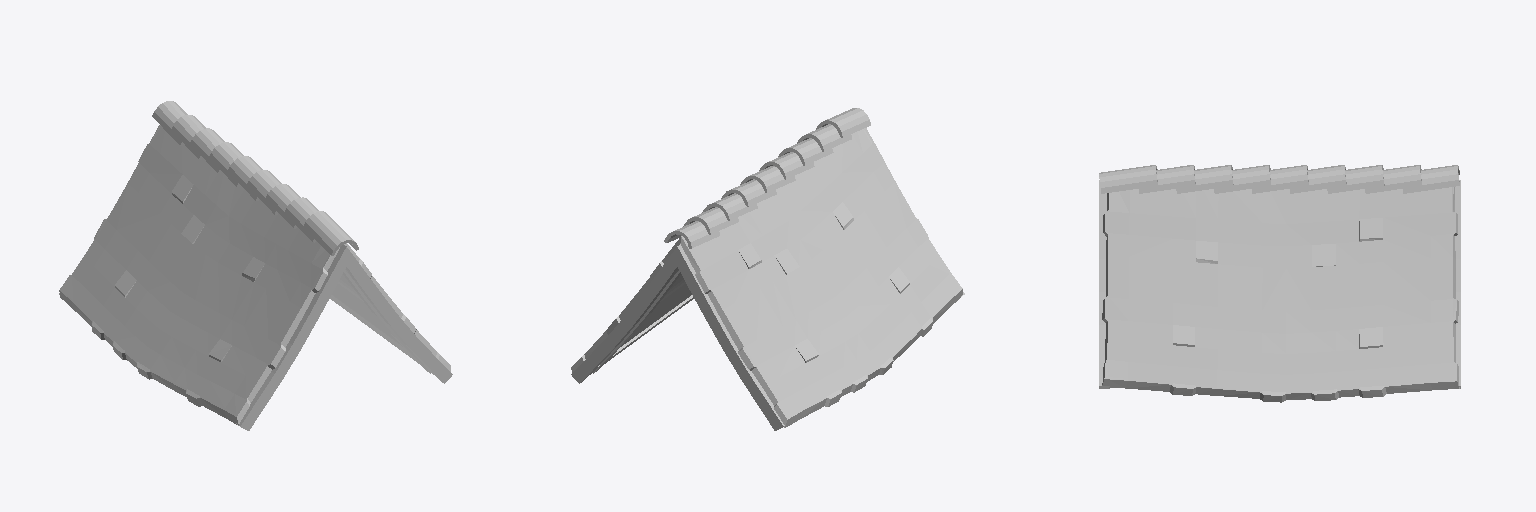
File: Roof_FlatTiles_4x6.obj
3 views of the same model, side by side, from view 1: azimuth 30°, elevation 25°; view 2: azimuth 150°, elevation 25°; view 3: azimuth 270°, elevation 25° (orthographic).
Parts seen in each view (by area): view 1: Roof_FlatTiles_4x6; view 2: Roof_FlatTiles_4x6; view 3: Roof_FlatTiles_4x6.
Part boxes in pixels (x1,y1,x2,y2): Roof_FlatTiles_4x6: (59, 101, 452, 430); Roof_FlatTiles_4x6: (571, 108, 964, 430); Roof_FlatTiles_4x6: (1099, 165, 1460, 402).
Bounding box in the file's own units: 5.7 × 4.15 × 7.57.